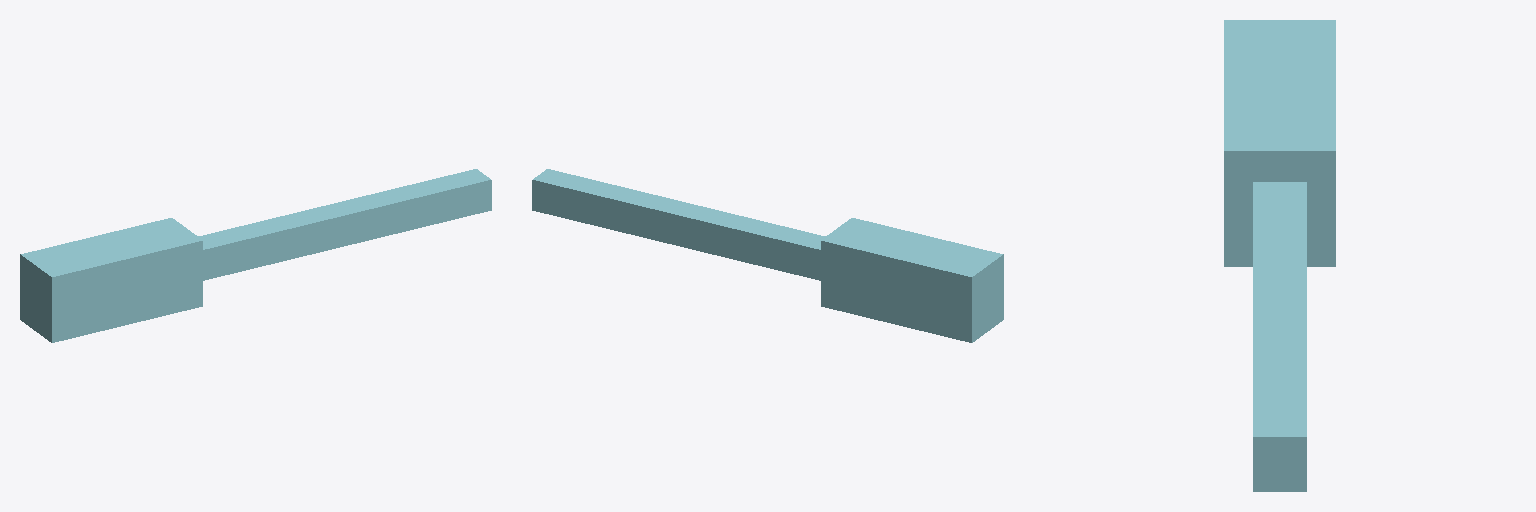
The robot description file, URDF, robot "cuboid_screwdriver_v2007":
<?xml version="1.0"?>
<robot name="cuboid_screwdriver_v2007">

  <link name="cuboid_screwdriver_v2007">
    <!-- Handle -->
    <visual>
      <origin xyz="0 0 0" rpy="0 0 0"/>
      <geometry>
        <box size="0.07529487018753767 0.02710509395595869 0.03128671478974456"/>
      </geometry>
      <material name="material">
        <color rgba="0.639 0.847 0.882 1.0"/>
      </material>
    </visual>
    <collision>
      <origin xyz="0 0 0" rpy="0 0 0"/>
      <geometry>
        <box size="0.07529487018753767 0.02710509395595869 0.03128671478974456"/>
      </geometry>
    </collision>

    <!-- Head -->
    <visual>
      <origin xyz="0.1112967115794961 0 0" rpy="0 0 0"/>
      <geometry>
        <box size="0.14729855297145453 0.012980212766171863 0.014665116108001055"/>
      </geometry>
      <material name="material">
        <color rgba="0.639 0.847 0.882 1.0"/>
      </material>
    </visual>
    <collision>
      <origin xyz="0.1112967115794961 0 0" rpy="0 0 0"/>
      <geometry>
        <box size="0.14729855297145453 0.012980212766171863 0.014665116108001055"/>
      </geometry>
    </collision>

    <inertial>
      <density value="400.0"/>
    </inertial>
  </link>

</robot>

--- Render facts (derived) ---
3 views of the same robot in one strip: view 1: azimuth 30°, elevation 25°; view 2: azimuth 150°, elevation 25°; view 3: azimuth 270°, elevation 25° (orthographic).
Robot: cuboid_screwdriver_v2007 — 1 links, 0 joints (none); root link cuboid_screwdriver_v2007; default pose: all joints at 0.
Links seen in each view (by area): view 1: cuboid_screwdriver_v2007; view 2: cuboid_screwdriver_v2007; view 3: cuboid_screwdriver_v2007.
Link boxes in pixels (left/top/right/bottom): cuboid_screwdriver_v2007: left=20, top=169, right=491, bottom=342; cuboid_screwdriver_v2007: left=532, top=169, right=1003, bottom=342; cuboid_screwdriver_v2007: left=1224, top=20, right=1335, bottom=491.
Size in the robot's own frame: 0.2226 by 0.0271 by 0.0313 metres.
Geometry: primitives only (box / cylinder / sphere), no mesh files.
